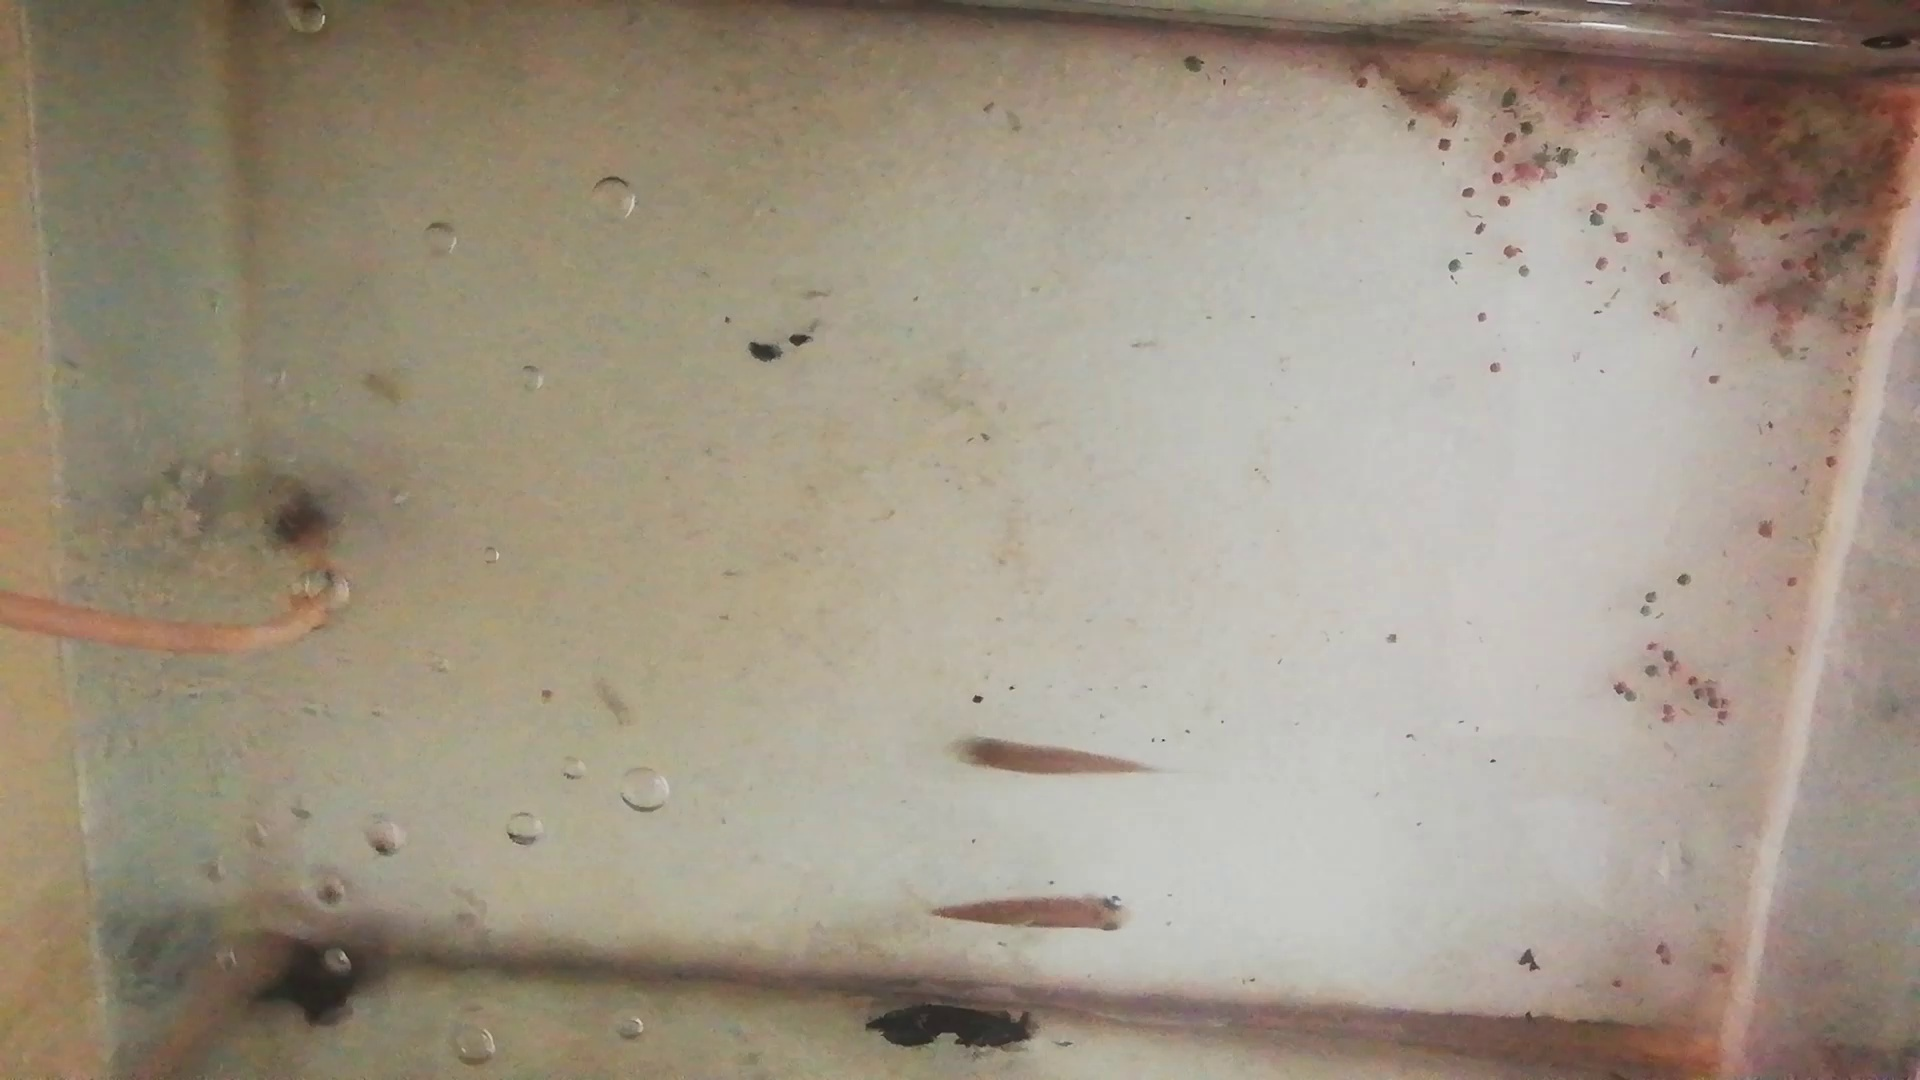fish: (924, 891, 1139, 938), (948, 732, 1151, 781)
